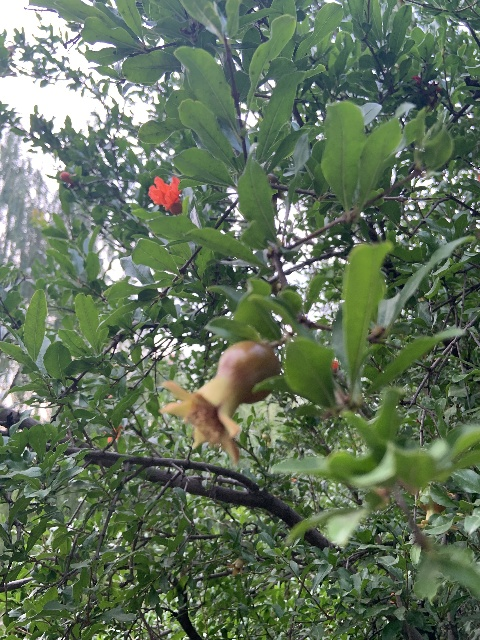bud: (59, 171, 73, 184)
early-fruit: (157, 339, 277, 466)
flower: (147, 175, 182, 213)
